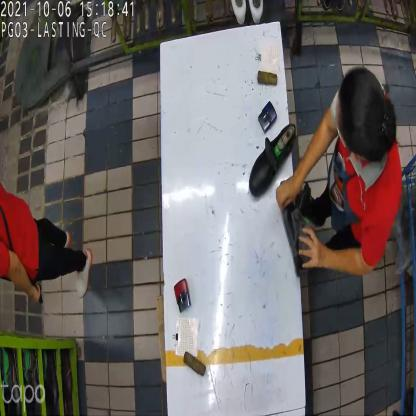shoes: (248, 124, 312, 280)
stamp: (174, 279, 193, 316), (258, 100, 278, 133)
